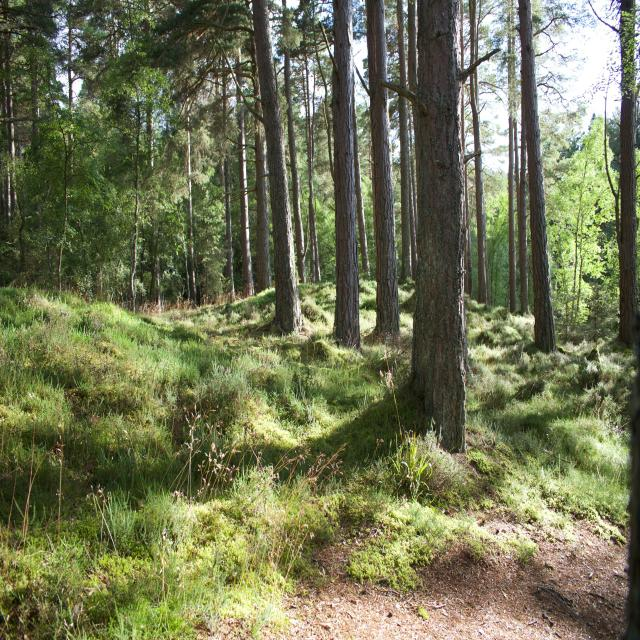Forest: (0, 1, 640, 635)
